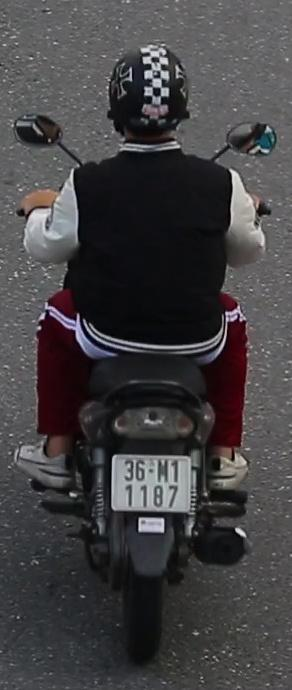LP: (106, 446, 196, 516)
helmet: (103, 36, 195, 165)
